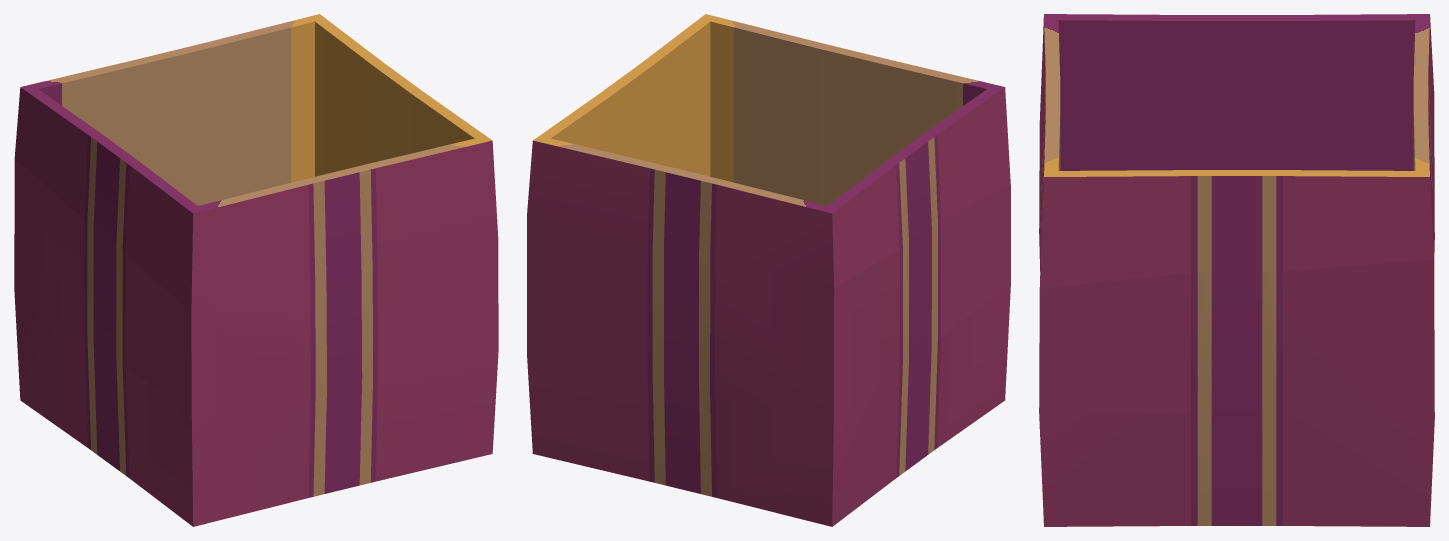
Rendered from tabs present Box.fbx.
3 renders of one model, left to right at view 1: azimuth 30°, elevation 25°; view 2: azimuth 150°, elevation 25°; view 3: azimuth 270°, elevation 25°, orthographic. The views are drawn at different scales.
Visible parts, largest first — view 1: CP_Throwpresent-resources.assets-2670; view 2: CP_Throwpresent-resources.assets-2670; view 3: CP_Throwpresent-resources.assets-2670.
Boxes of the visible parts, x1,y1,x2,y2 form: CP_Throwpresent-resources.assets-2670: (14,14,498,526); CP_Throwpresent-resources.assets-2670: (527,14,1010,526); CP_Throwpresent-resources.assets-2670: (1039,14,1434,526).
Size of the model in its own units: 0.583 by 0.5687 by 0.5829.
